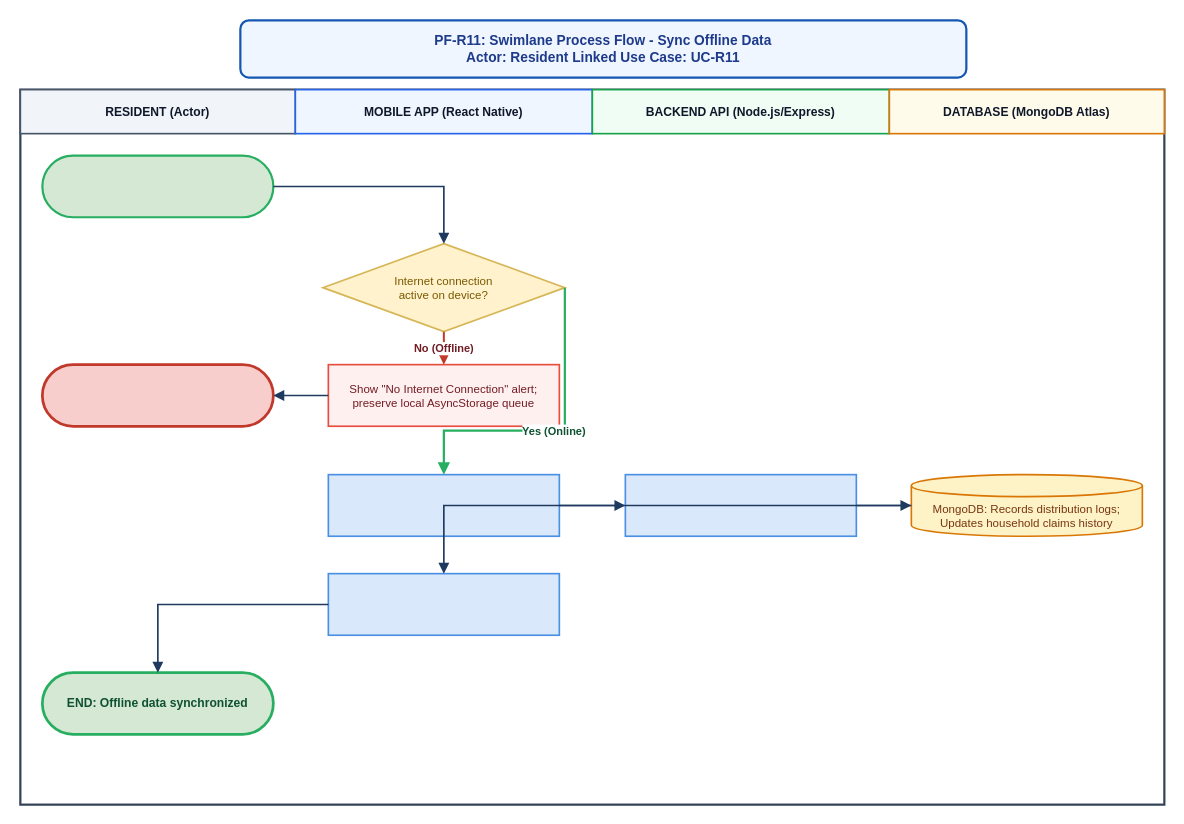
This 1184x824 diagram has some shape labels left out. Each missing label, with the box of its shape:
Clears AsyncStorage offline queue; Refreshes "Last Synced" timestamp: (327, 572, 560, 636)
END: Offline queue retained: (40, 363, 274, 427)
POST /api/distributions/sync-offline-claims Batched claims validation: (624, 473, 857, 537)
Reads offline claims array from AsyncStorage (mitigateplus_offline_claims): (327, 473, 560, 537)
START: Taps "Sync Offline Data": (41, 154, 274, 218)
